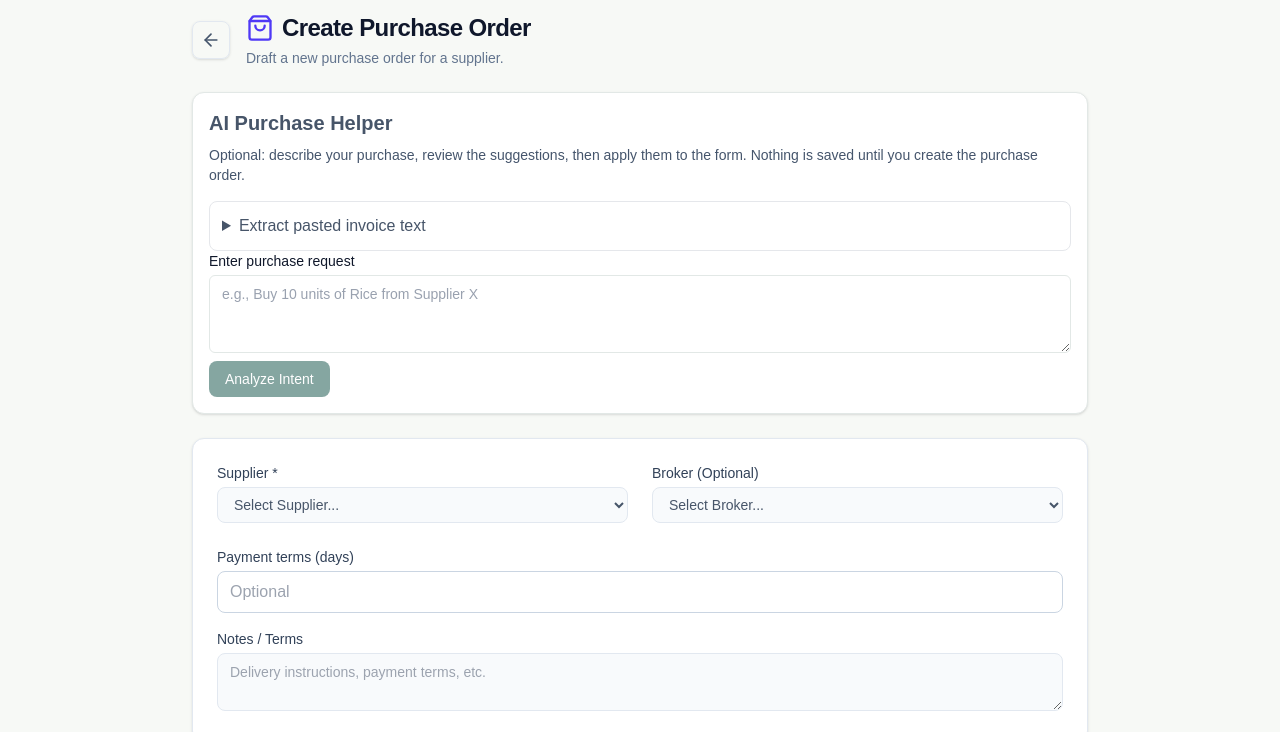
it: Purchase assistant and authoritative submit › shows validated supplier and items without creating or invalidating purchases
Type "Buy 2.5 Rice from Supplier A" into the text box labelled "Enter purchase request". click: (640,314)
box: [209,275,1071,353]
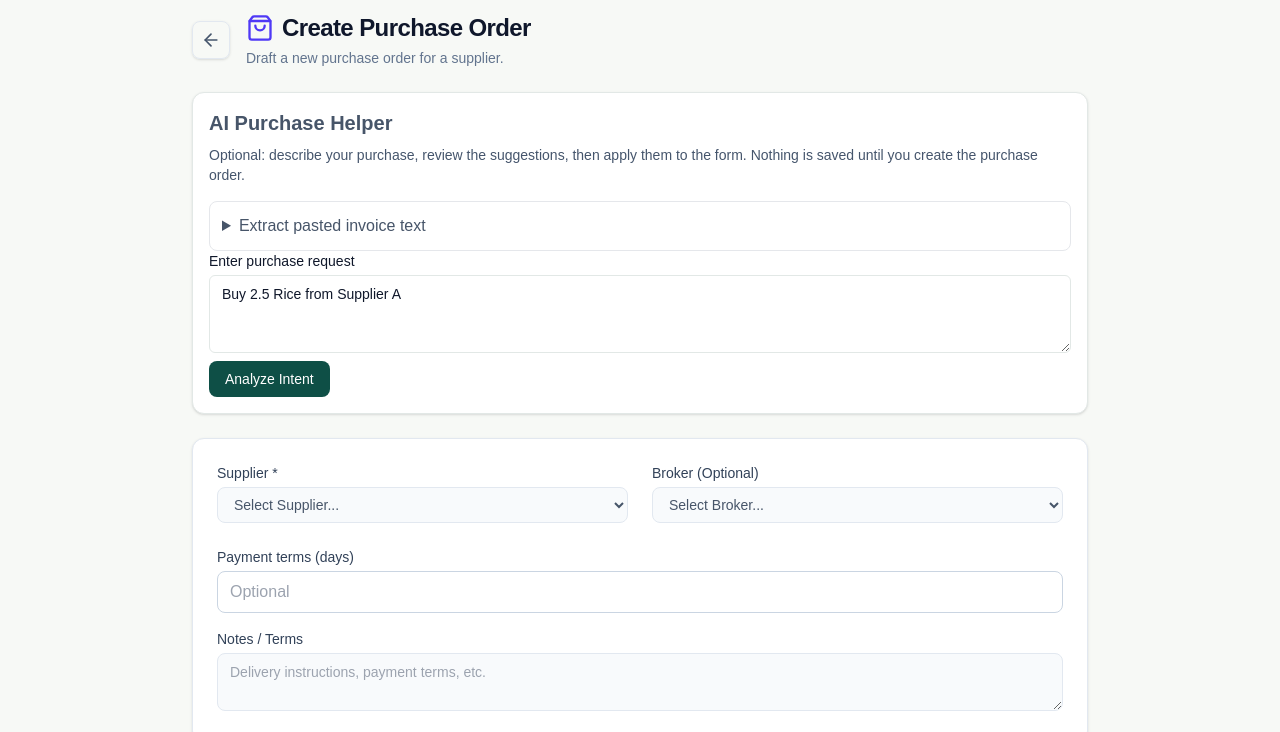
Click the button "Analyze Intent". click: (269,379)
box: [209,361,330,397]
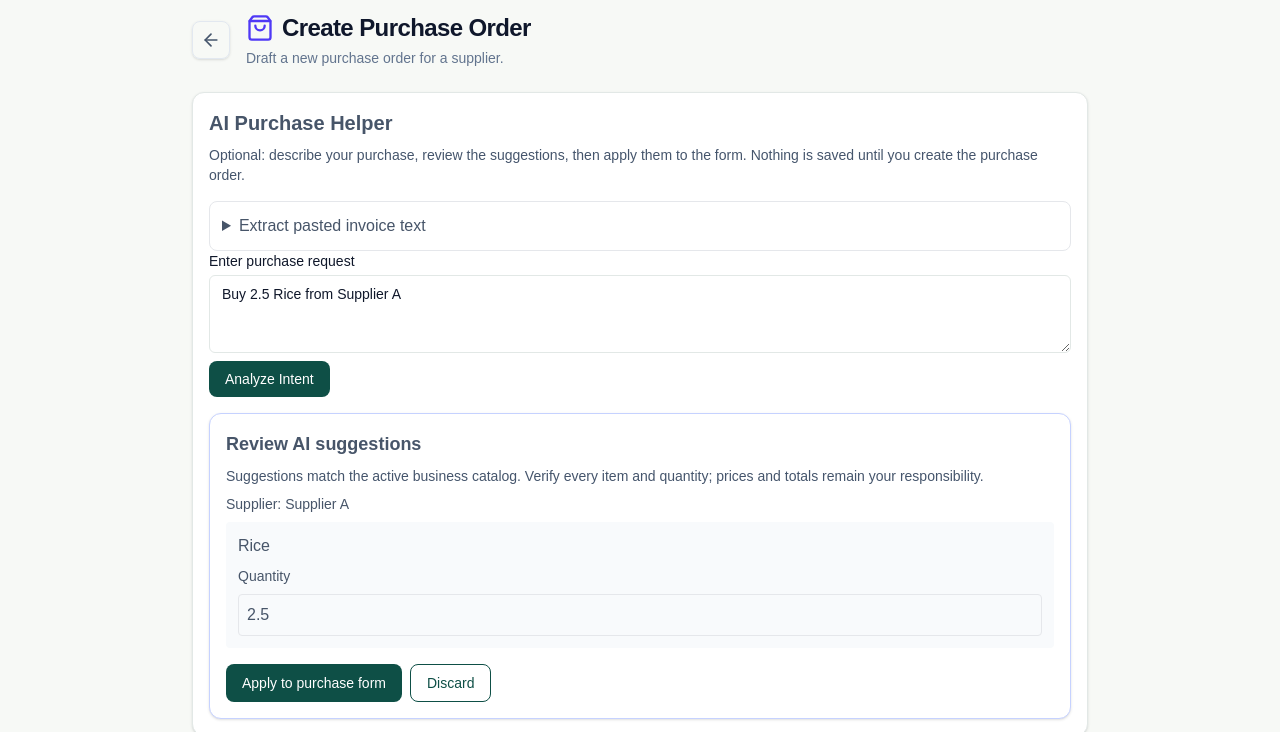
Check: the heading "Review AI suggestions" is shown, box [226,434,421,454]
Check: the text "Supplier: Supplier A" is shown, box [226,496,349,512]
Check: the text "Rice" is shown, box [238,537,270,554]
